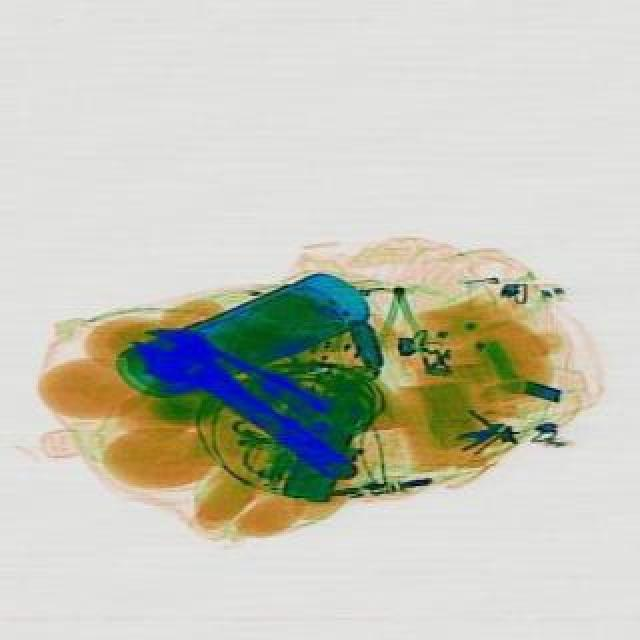scissors: (116, 306, 372, 502)
